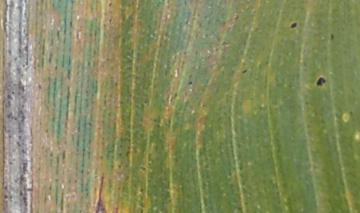tarspot: (316, 76, 326, 87), (240, 66, 249, 75), (289, 21, 298, 30), (36, 82, 44, 91), (329, 31, 335, 41), (187, 79, 194, 86), (107, 1, 114, 8), (139, 186, 145, 194)
